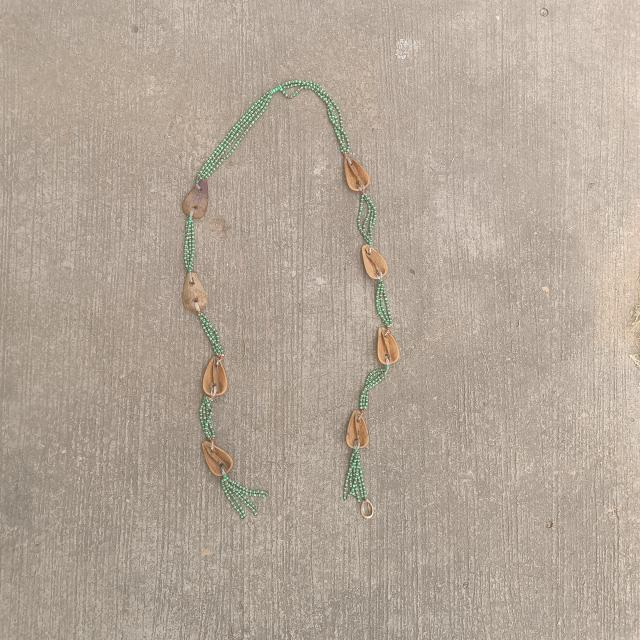facedown: (180, 172, 213, 222), (180, 266, 210, 318)
faceup: (337, 147, 376, 196), (196, 350, 233, 400), (197, 435, 238, 480), (342, 405, 372, 455), (370, 322, 402, 368), (359, 240, 391, 284)
